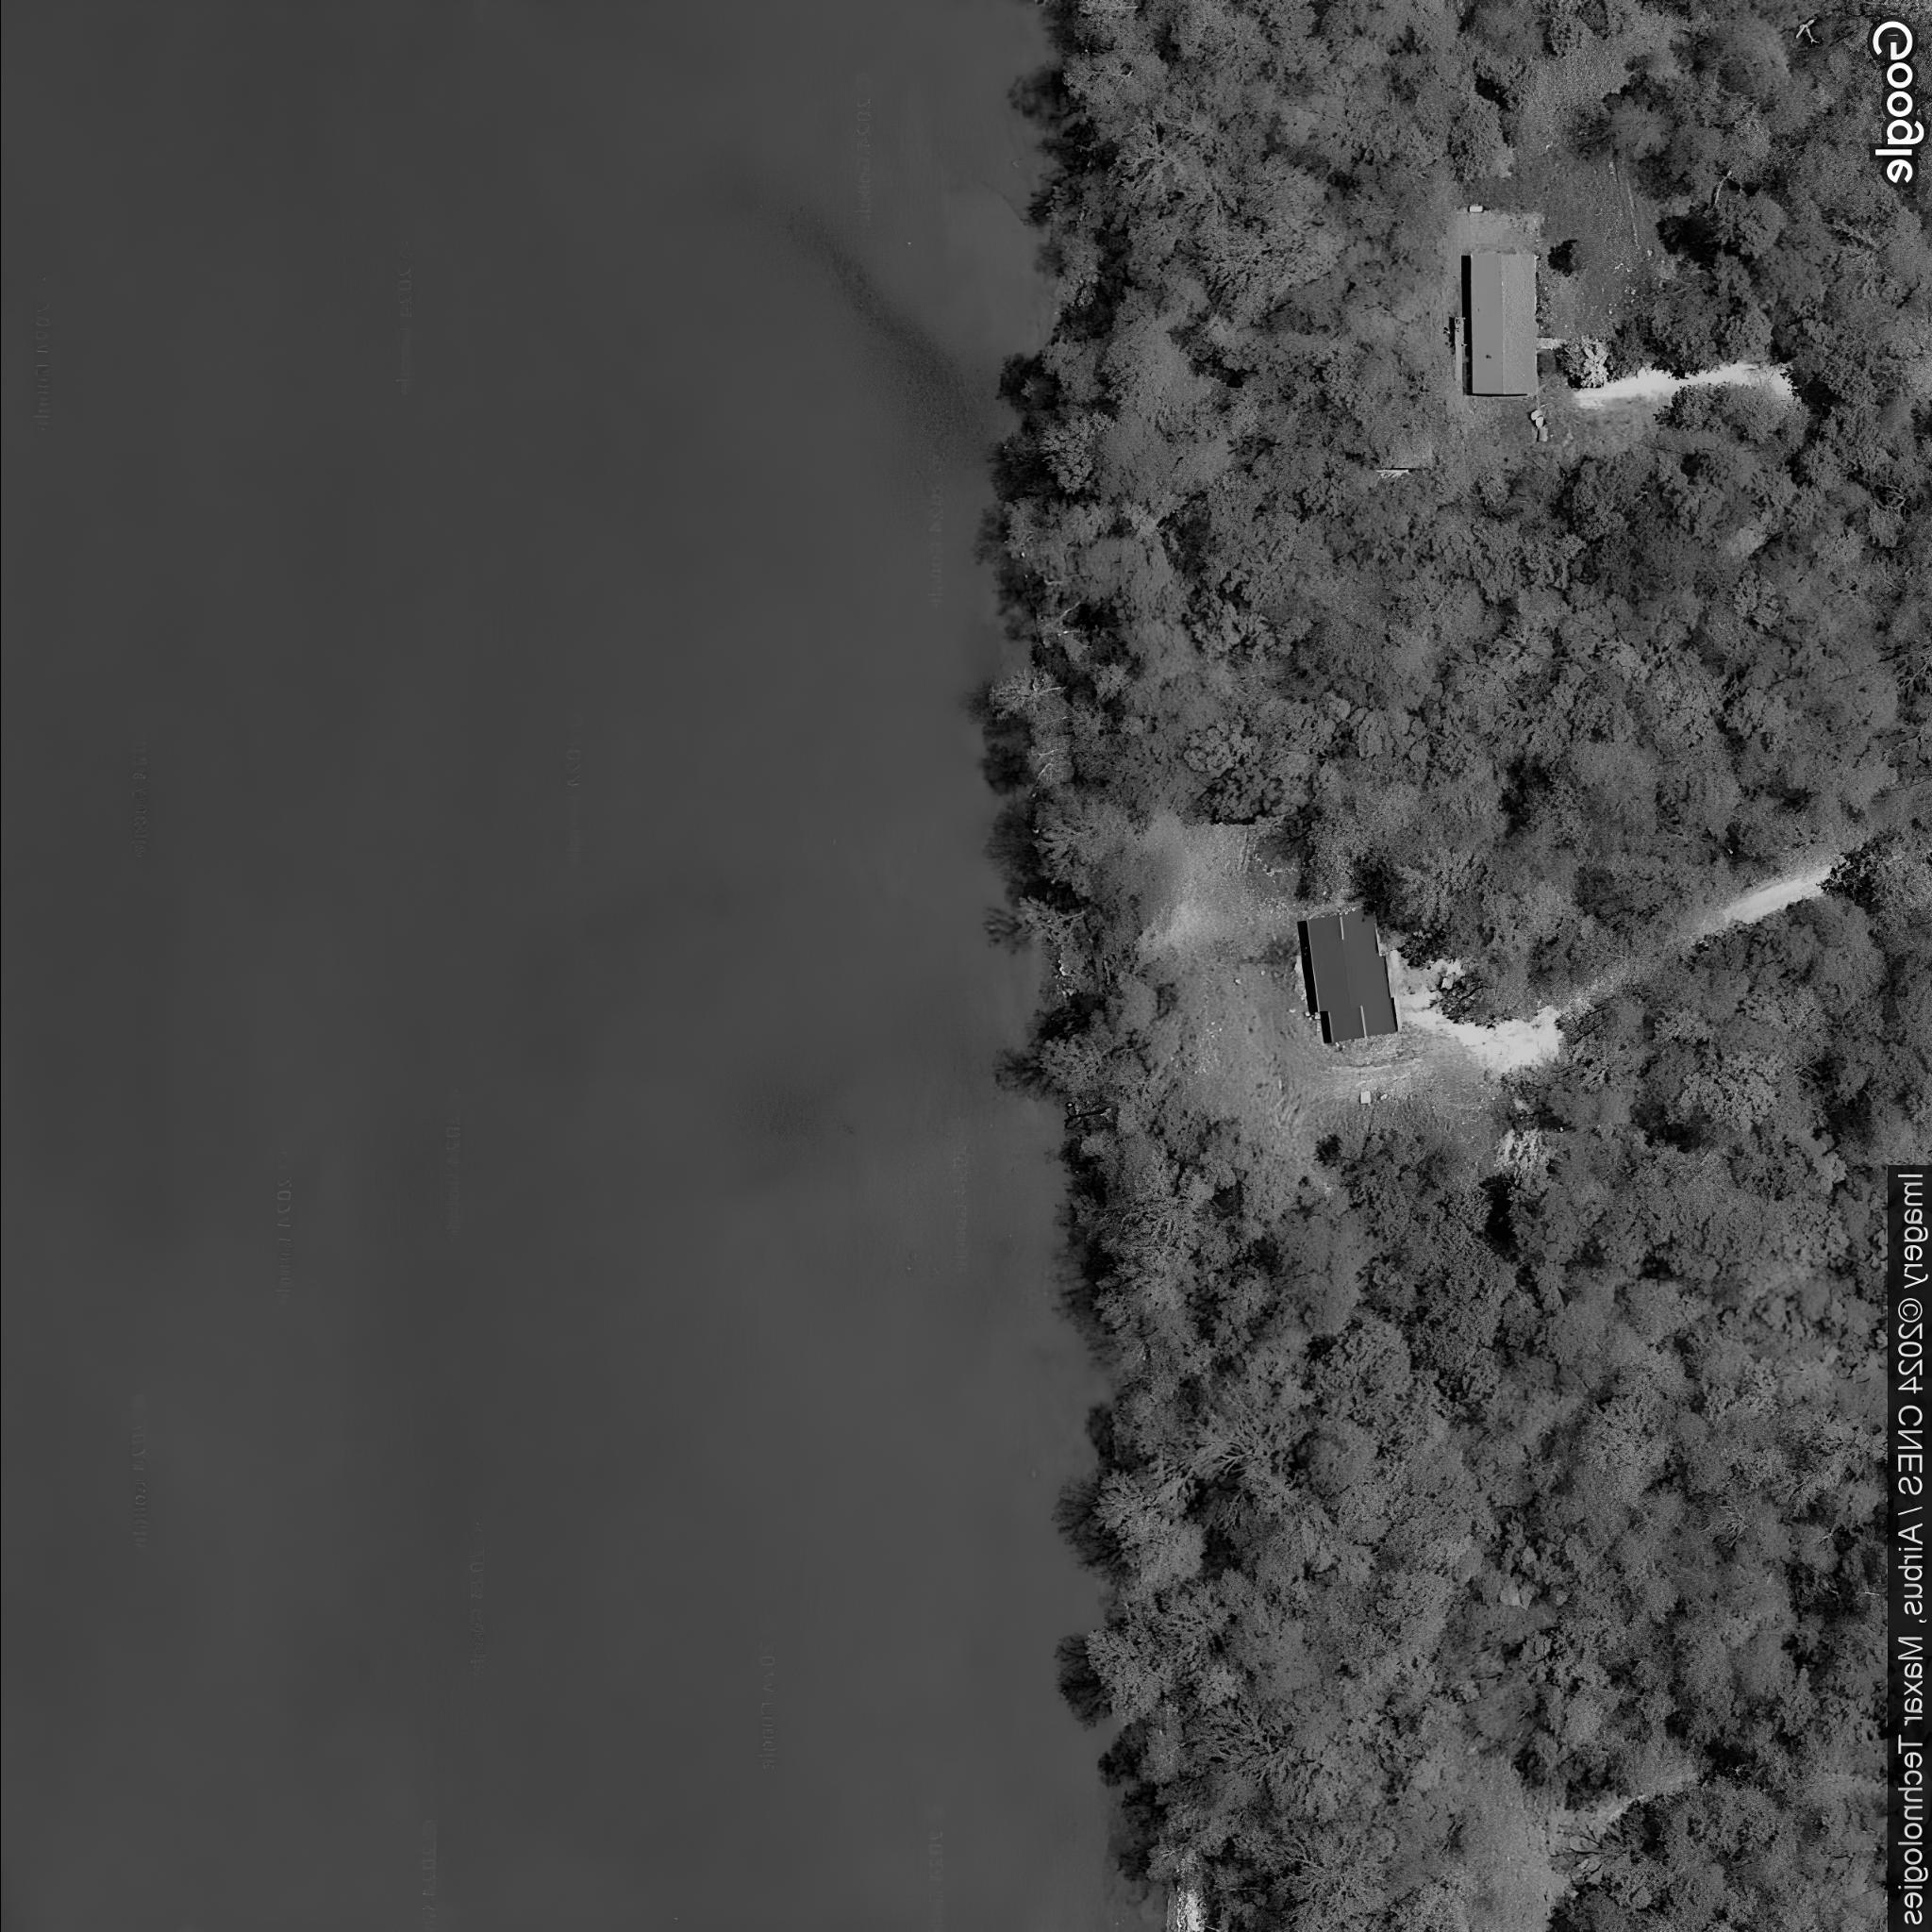House: (1306, 911, 1399, 1042), (1467, 251, 1537, 396)
Propane: (1467, 203, 1484, 214)
